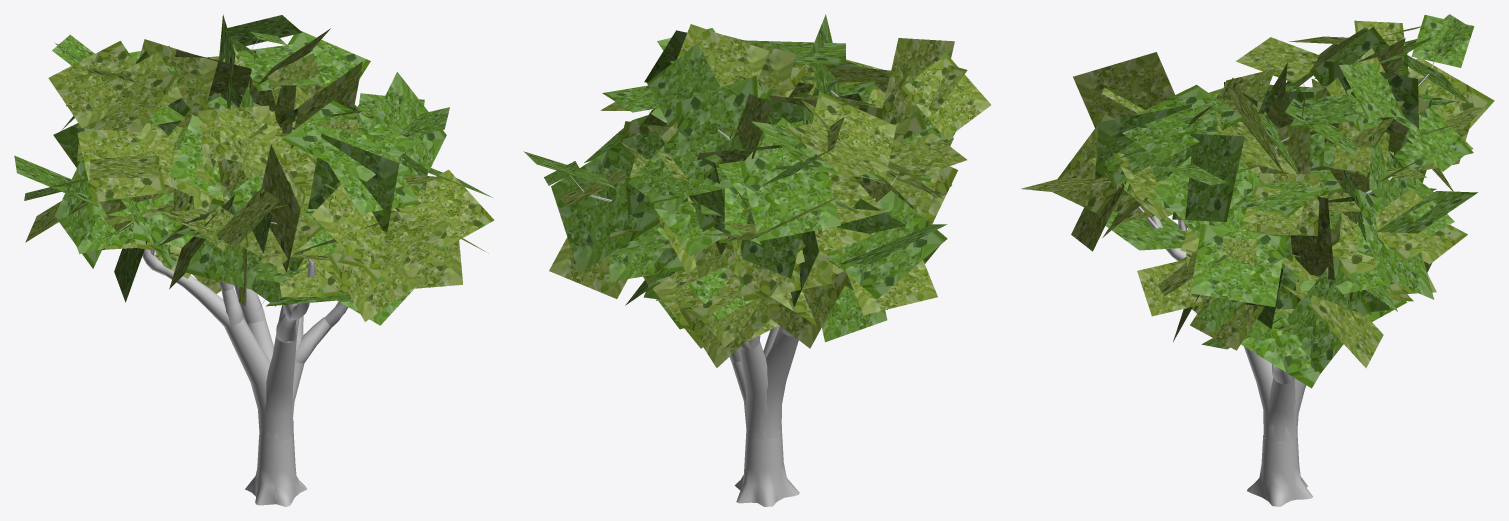
Rendered from Field_Elm_Model_0.obj.
3 views of the same model, side by side, from view 1: azimuth 30°, elevation 25°; view 2: azimuth 150°, elevation 25°; view 3: azimuth 270°, elevation 25° (orthographic). The views are drawn at different scales.
Parts seen in each view (by area): view 1: Foliage__leafcard, Bark; view 2: Foliage__leafcard, Bark; view 3: Foliage__leafcard, Bark.
Part boxes in pixels (x1,y1,x2,y2): Foliage__leafcard: (14, 14, 494, 325); Bark: (142, 39, 348, 506); Foliage__leafcard: (524, 14, 990, 367); Bark: (570, 69, 913, 506); Foliage__leafcard: (1021, 14, 1494, 388); Bark: (1137, 62, 1434, 506).
Bounding box in the file's own units: 21.28 × 23 × 22.23.
